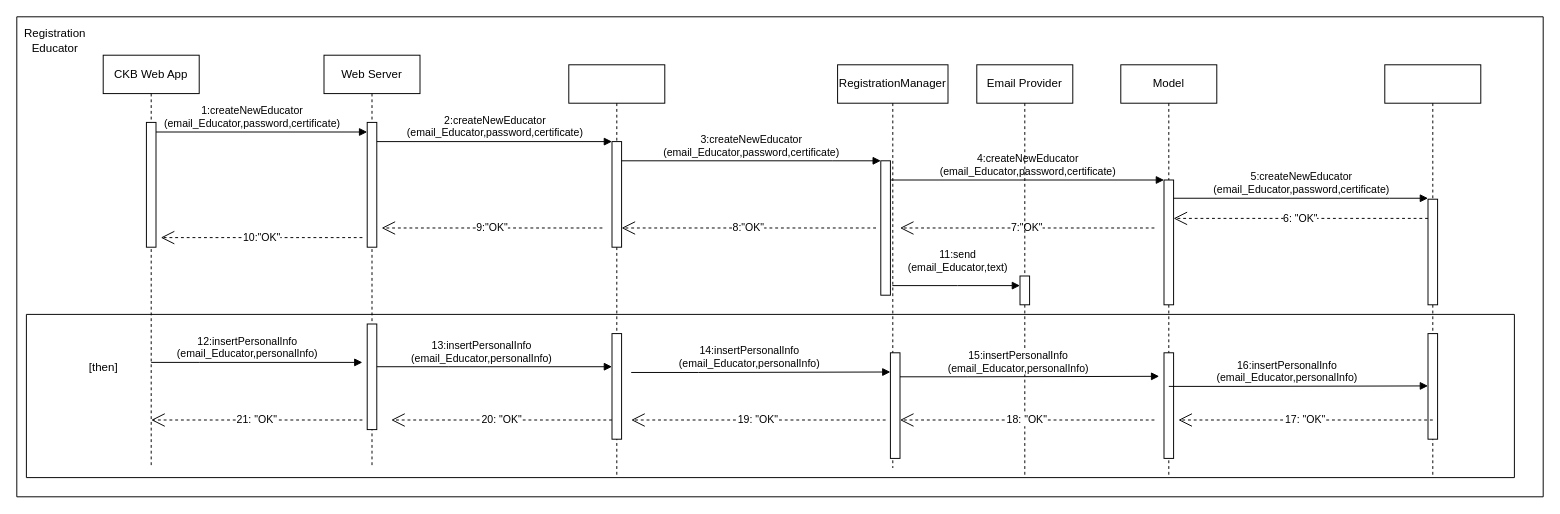
Image size: 1560x514. Some labels were removed from this diagram. Here are the shapes that lost their labels. From the top down, the centre of each, then its label:
the point at 616,271: Dispatcher
the point at 1432,271: Private DBMS
the point at 769,395: alt confirmation Educator == true
